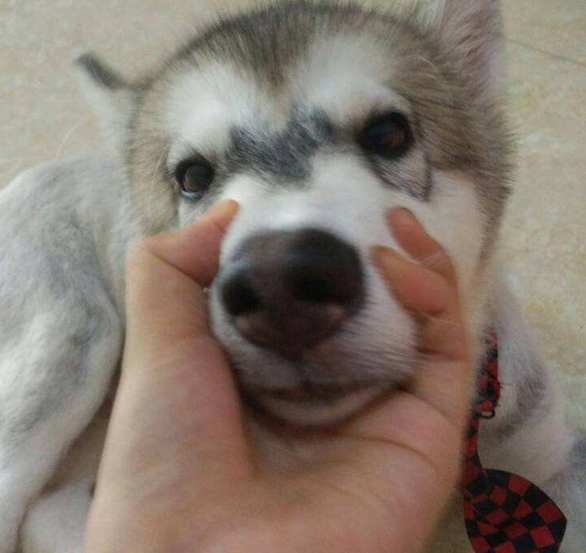nose: (218, 230, 370, 362)
